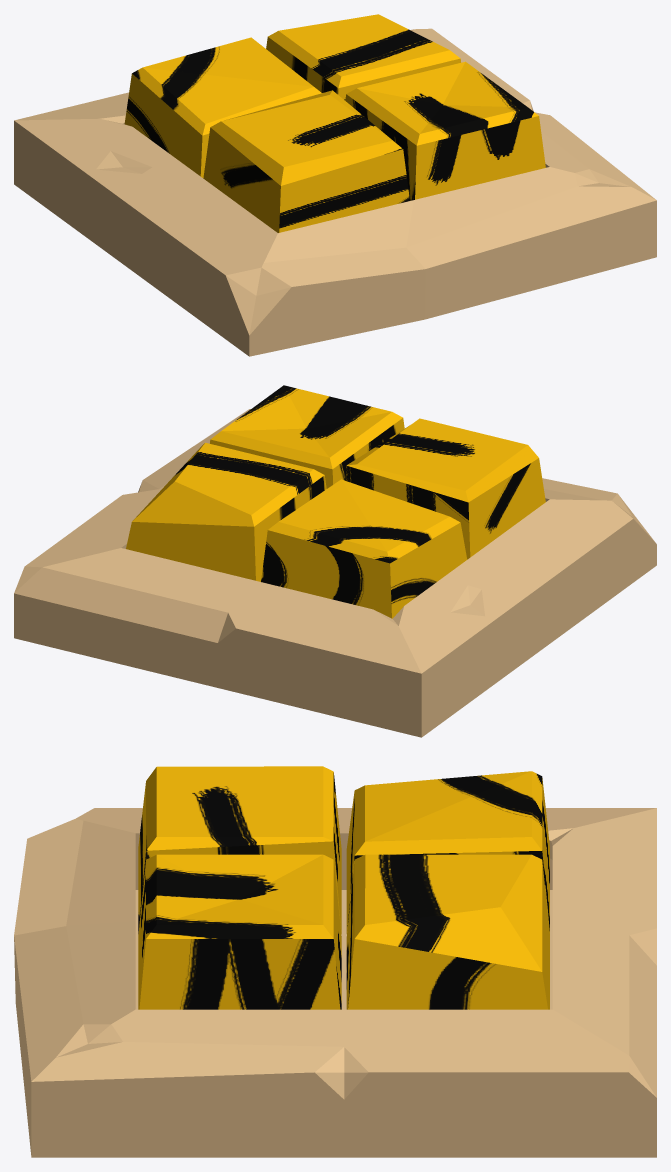
File: final_buttons_v001-g.fbx
3 views of the same model, one above another, from view 1: azimuth 30°, elevation 25°; view 2: azimuth 150°, elevation 25°; view 3: azimuth 270°, elevation 25° (orthographic). The views are drawn at different scales.
Parts seen in each view (by area): view 1: Cube.005, Cube.004, Cube.003, Cube.001, Cube.002; view 2: Cube.005, Cube.001, Cube.002, Cube.004, Cube.003; view 3: Cube.005, Cube.003, Cube.002, Cube.004, Cube.001.
Part boxes in pixels (x1,y1,x2,y2): Cube.005: (14,28,656,356); Cube.004: (203,90,409,232); Cube.003: (345,61,545,200); Cube.001: (124,37,321,177); Cube.002: (266,14,460,100); Cube.005: (14,409,656,737); Cube.001: (261,479,467,618); Cube.002: (126,442,326,581); Cube.004: (344,418,545,559); Cube.003: (210,385,404,488); Cube.005: (14,808,656,1157); Cube.003: (138,854,341,1009); Cube.002: (346,854,549,1009); Cube.004: (138,766,341,933); Cube.001: (346,771,549,933).
Size of the model in its own units: 12 by 3.9 by 12.33.
5 materials, 4 textured.
